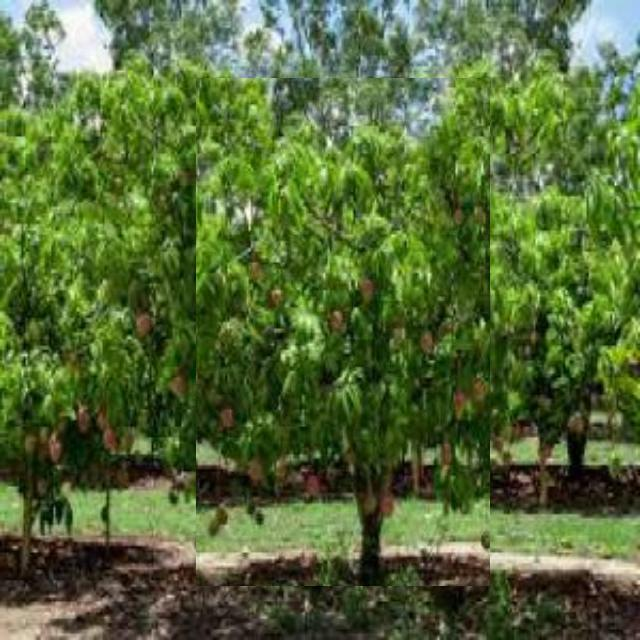tree: (196, 78, 490, 586), (4, 49, 234, 567), (417, 32, 636, 514)
